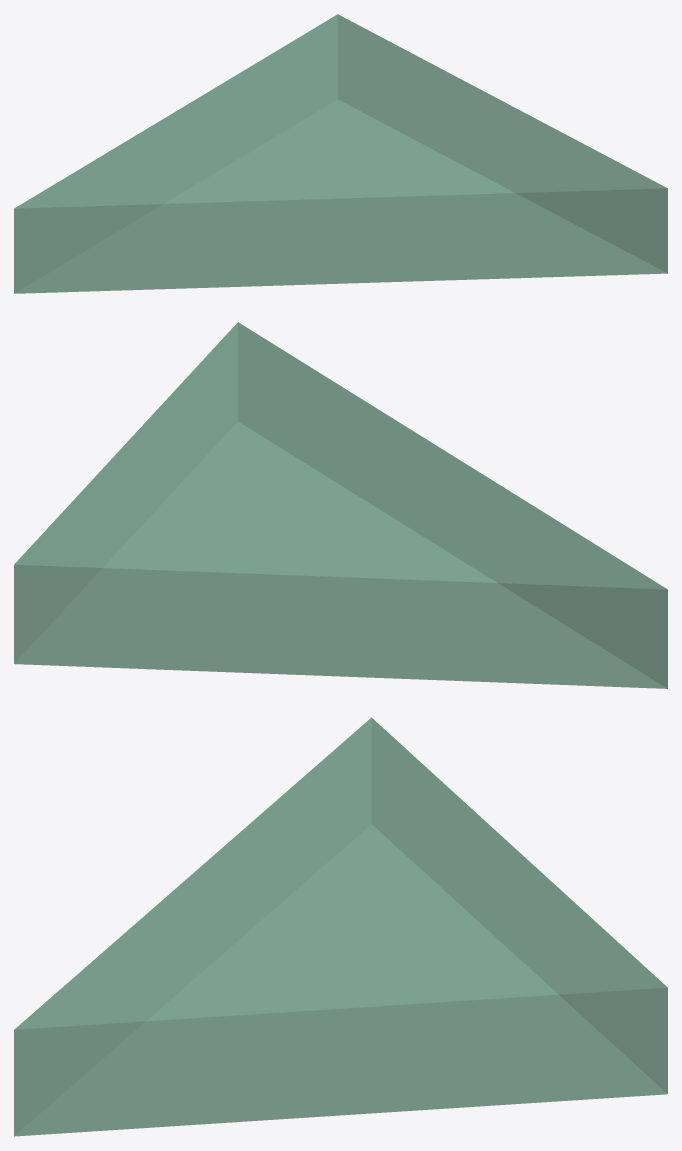
Rendered from PetriFragments007small.FBX.
The picture shows the model from 3 angles, top to bottom: view 1: azimuth 30°, elevation 25°; view 2: azimuth 150°, elevation 25°; view 3: azimuth 270°, elevation 25°; orthographic projection. The views are drawn at different scales.
Visible parts, largest first — view 1: Object006; view 2: Object006; view 3: Object006.
Part boxes in pixels (x1,y1,x2,y2): Object006: (14, 14, 667, 293); Object006: (14, 322, 667, 688); Object006: (14, 717, 667, 1136).
Bounding box in the file's own units: 10.96 × 1.74 × 9.69.
